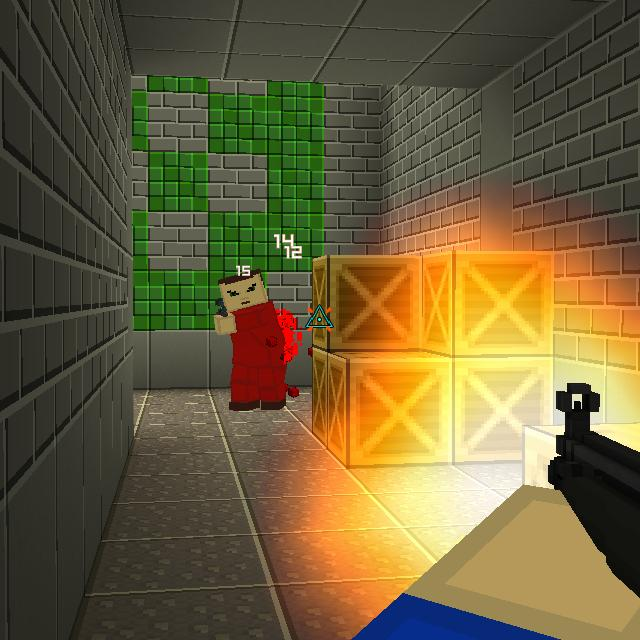enemy: (213, 267, 293, 415)
